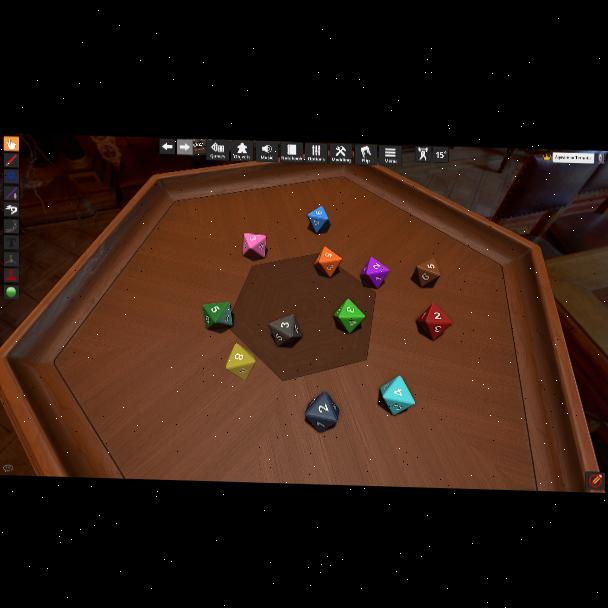d8: (304, 391, 338, 432), (416, 302, 451, 341), (379, 374, 411, 413), (226, 344, 256, 381), (268, 313, 300, 347), (334, 298, 364, 334), (361, 257, 388, 289), (314, 247, 340, 279), (203, 301, 231, 330), (415, 257, 439, 288), (307, 206, 328, 235), (244, 233, 266, 258)
